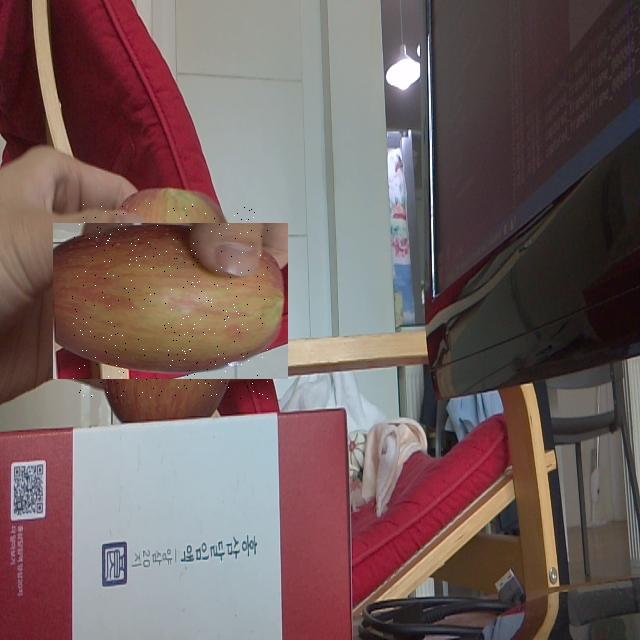apple: (72, 203, 268, 399)
